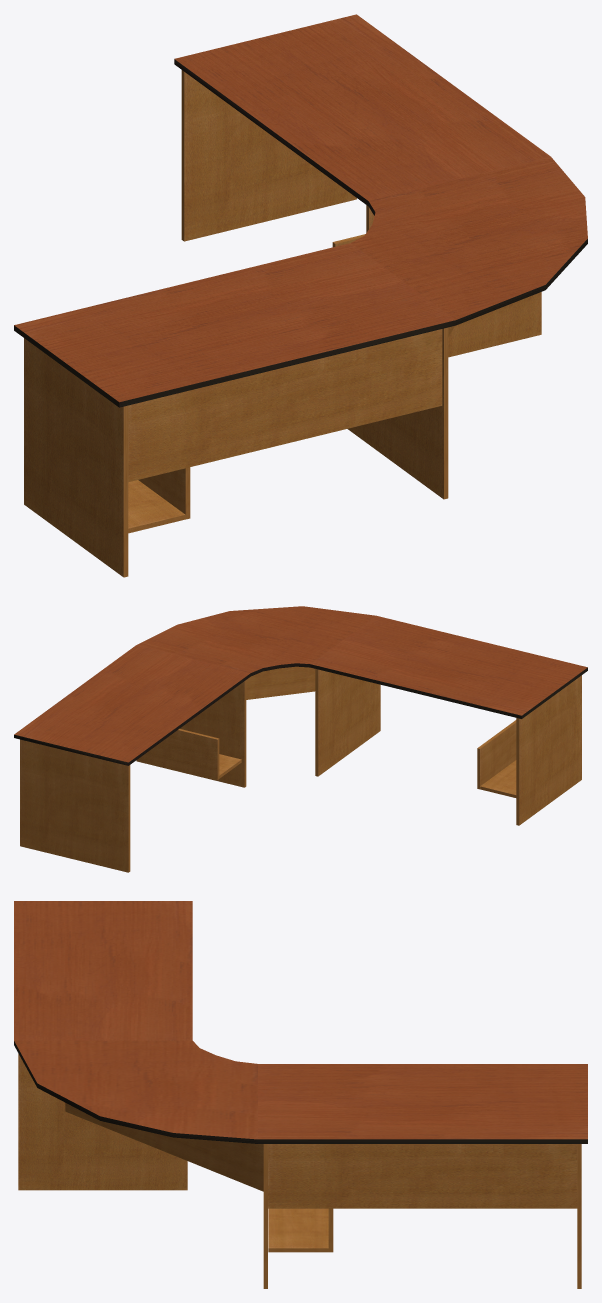
File: Table_corner1.FBX
3 views of the same model, one above another, from view 1: azimuth 30°, elevation 25°; view 2: azimuth 150°, elevation 25°; view 3: azimuth 270°, elevation 25° (orthographic). The views are drawn at different scales.
Visible parts, largest first — view 1: office_desk_top.bmp, office_desk_var2.bmp, office_desk_border.bmp; view 2: office_desk_top.bmp, office_desk_var2.bmp, office_desk_border.bmp; view 3: office_desk_top.bmp, office_desk_var2.bmp, office_desk_border.bmp.
Boxes of the visible parts, <box> form: office_desk_top.bmp: <box>14,14,587,402</box>; office_desk_var2.bmp: <box>24,70,541,577</box>; office_desk_border.bmp: <box>14,59,587,407</box>; office_desk_top.bmp: <box>14,606,587,762</box>; office_desk_var2.bmp: <box>20,666,581,872</box>; office_desk_border.bmp: <box>14,663,587,765</box>; office_desk_top.bmp: <box>14,901,587,1139</box>; office_desk_var2.bmp: <box>18,1053,581,1288</box>; office_desk_border.bmp: <box>14,1041,587,1143</box>.
Size of the model in its own units: 57 by 16.94 by 58.01.
